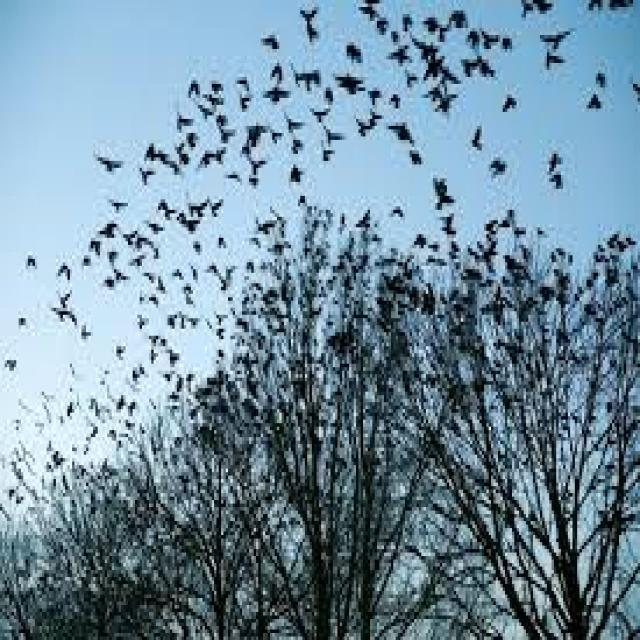bird: (544, 140, 575, 199), (346, 105, 394, 139), (330, 65, 375, 100), (528, 29, 575, 62), (387, 114, 429, 149), (288, 0, 326, 35), (502, 80, 536, 119), (578, 88, 611, 122), (430, 174, 460, 207), (488, 140, 508, 186), (408, 36, 448, 59), (540, 51, 572, 78), (473, 24, 497, 60), (92, 144, 120, 172), (470, 117, 488, 159), (197, 140, 216, 178), (107, 196, 140, 217), (308, 104, 334, 130), (170, 105, 194, 133), (269, 56, 290, 88), (99, 214, 118, 248), (247, 148, 266, 180), (51, 285, 77, 306), (50, 306, 80, 324), (126, 248, 150, 270), (136, 166, 157, 191), (321, 128, 347, 148), (145, 213, 169, 234), (598, 63, 612, 98), (214, 122, 240, 140), (2, 353, 24, 374), (284, 112, 302, 136), (389, 86, 407, 110), (224, 166, 241, 191), (85, 230, 101, 256), (196, 101, 212, 126), (260, 33, 288, 47), (402, 68, 420, 89), (210, 190, 223, 218), (236, 72, 253, 92), (78, 320, 94, 341), (100, 273, 116, 294), (55, 262, 73, 280), (234, 90, 252, 108), (26, 254, 42, 272), (212, 142, 226, 162), (105, 250, 118, 271), (157, 274, 169, 296), (137, 311, 149, 332), (168, 308, 179, 329), (114, 271, 126, 289)
